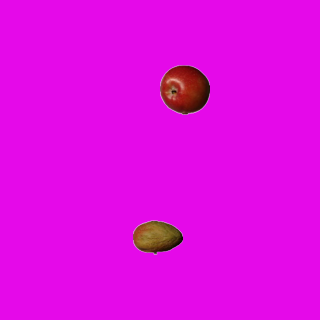Apple Braeburn: (159, 64, 209, 114)
Papaya: (132, 212, 182, 262)
